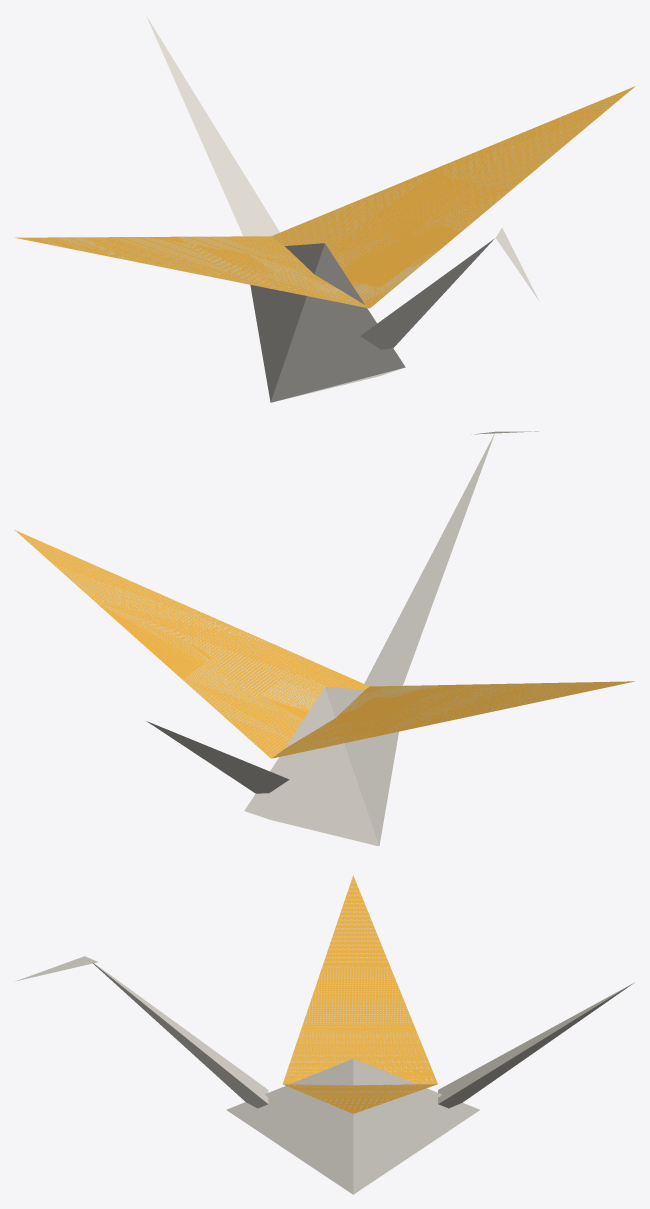
Rendered from crane.glb.
3 views of the same model, one above another, from view 1: azimuth 30°, elevation 25°; view 2: azimuth 150°, elevation 25°; view 3: azimuth 270°, elevation 25° (orthographic). The views are drawn at different scales.
Visible parts, largest first — view 1: Wing.001, Body, Wing, Tail, WingBack, WingBack.001, Neck; view 2: Wing.001, Body, Wing, WingBack.001, Neck, Tail, WingBack; view 3: Body, Wing, WingBack, Neck, Tail, Wing.001, WingBack.001.
Part boxes in pixels (x1,y1,x2,y2): Wing.001: (271, 86, 635, 308); Body: (250, 243, 405, 402); Wing: (15, 236, 368, 308); Tail: (146, 15, 279, 236); WingBack: (23, 236, 365, 307); WingBack.001: (272, 89, 630, 304); Neck: (360, 238, 494, 349); Wing.001: (15, 530, 369, 758); Body: (244, 687, 398, 846); Wing: (272, 681, 633, 758); WingBack.001: (16, 531, 358, 758); Neck: (364, 433, 494, 686); Tail: (146, 721, 289, 793); WingBack: (272, 681, 634, 757); Body: (226, 1058, 479, 1194); Wing: (283, 875, 437, 1084); WingBack: (284, 878, 434, 1082); Neck: (93, 963, 268, 1108); Tail: (438, 982, 634, 1108); Wing.001: (283, 1084, 436, 1113); WingBack.001: (284, 1084, 434, 1113).
Bounding box in the file's own units: 0.4 × 0.17 × 0.44.
